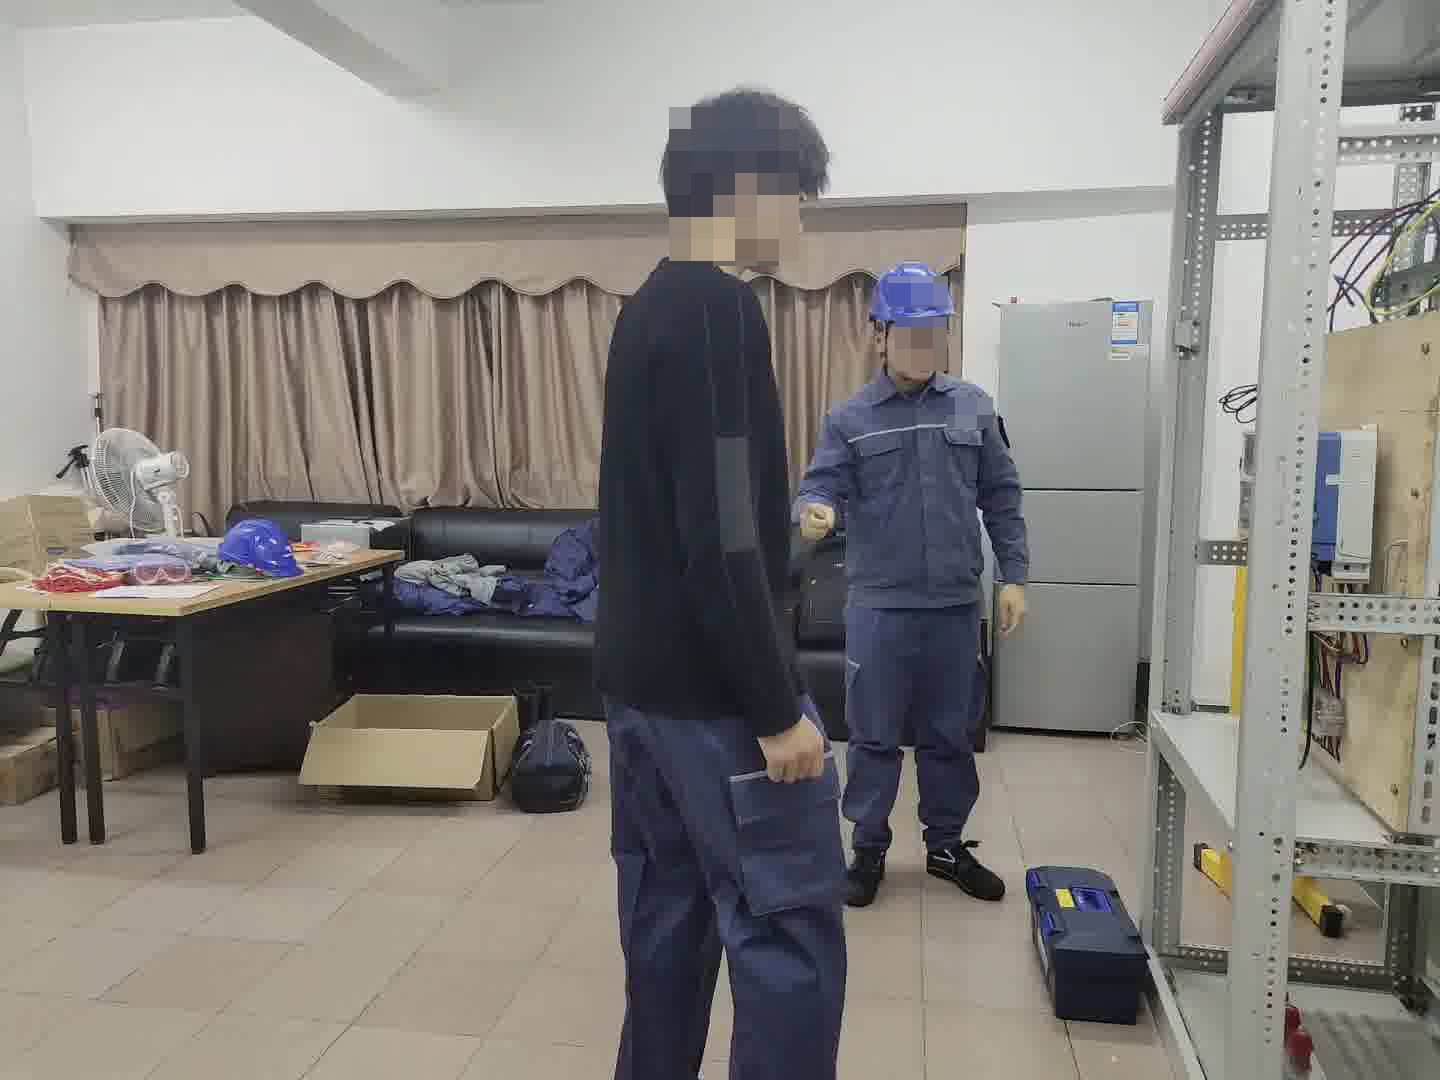downsuit: (601, 736, 851, 1080), (844, 620, 989, 862)
halt: (865, 260, 959, 376)
hand: (760, 712, 830, 788), (993, 581, 1027, 639), (799, 501, 839, 549)
inear: (871, 321, 894, 367)
noear: (732, 167, 793, 258)
person: (600, 69, 855, 1080), (801, 256, 1029, 905)
unhalt: (654, 88, 833, 276)
upcloth: (586, 249, 809, 736)
upsuit: (805, 372, 1025, 611)
